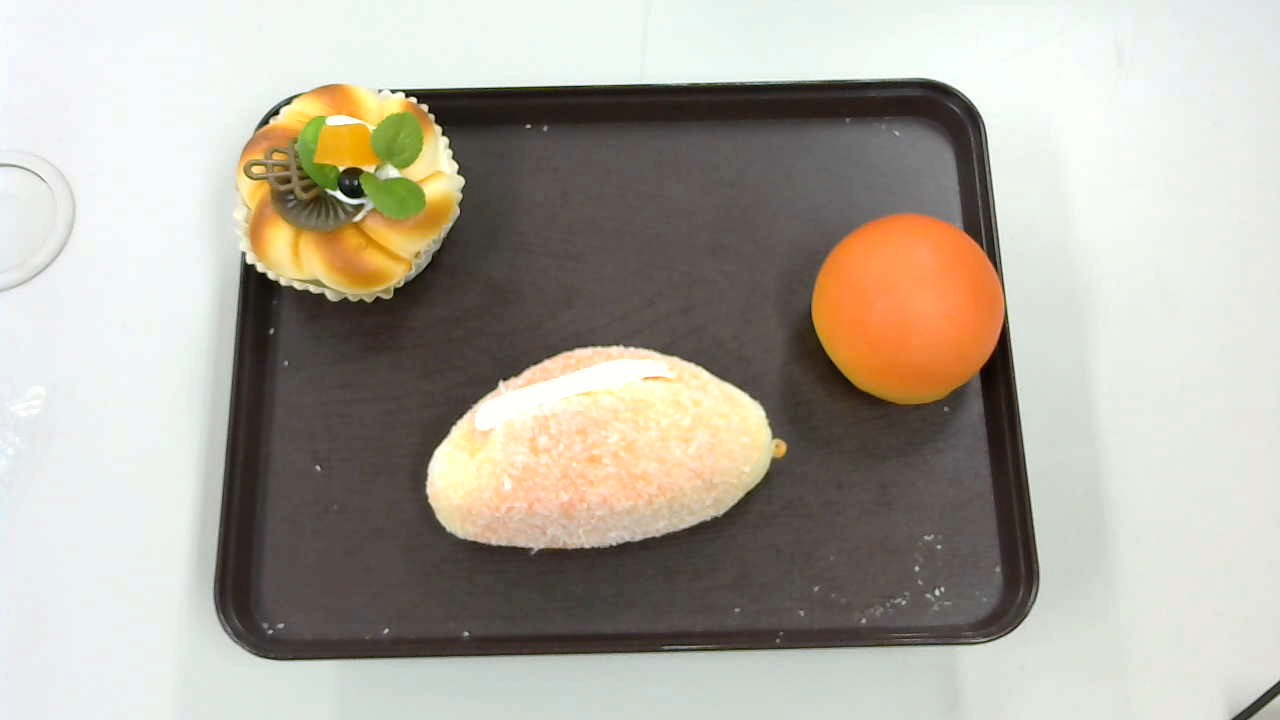bun: (808, 212, 1006, 407)
coconut: (425, 345, 788, 551)
fruit tart: (226, 80, 469, 305)
